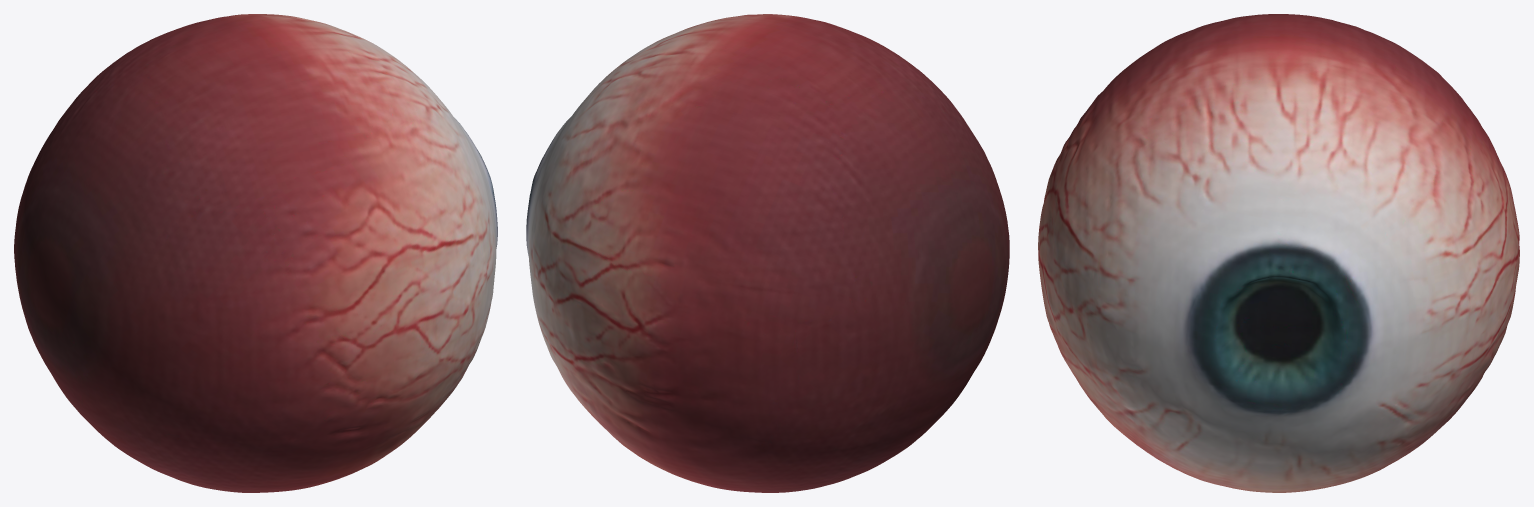
The model's file is b68524c7a499_dcf66d87e588_detailed_human_eye_.glb.
3 renders of one model, left to right at view 1: azimuth 30°, elevation 25°; view 2: azimuth 150°, elevation 25°; view 3: azimuth 270°, elevation 25°, orthographic.
Parts seen in each view (by area): view 1: high_poly; view 2: high_poly; view 3: high_poly.
Boxes of the visible parts, box(x1,y1,x2,y2) form: high_poly: box(14, 14, 497, 492); high_poly: box(526, 14, 1009, 492); high_poly: box(1038, 14, 1519, 492).
Size of the model in its own units: 0.9937 by 0.9932 by 1.
1 material, 1 textured.
